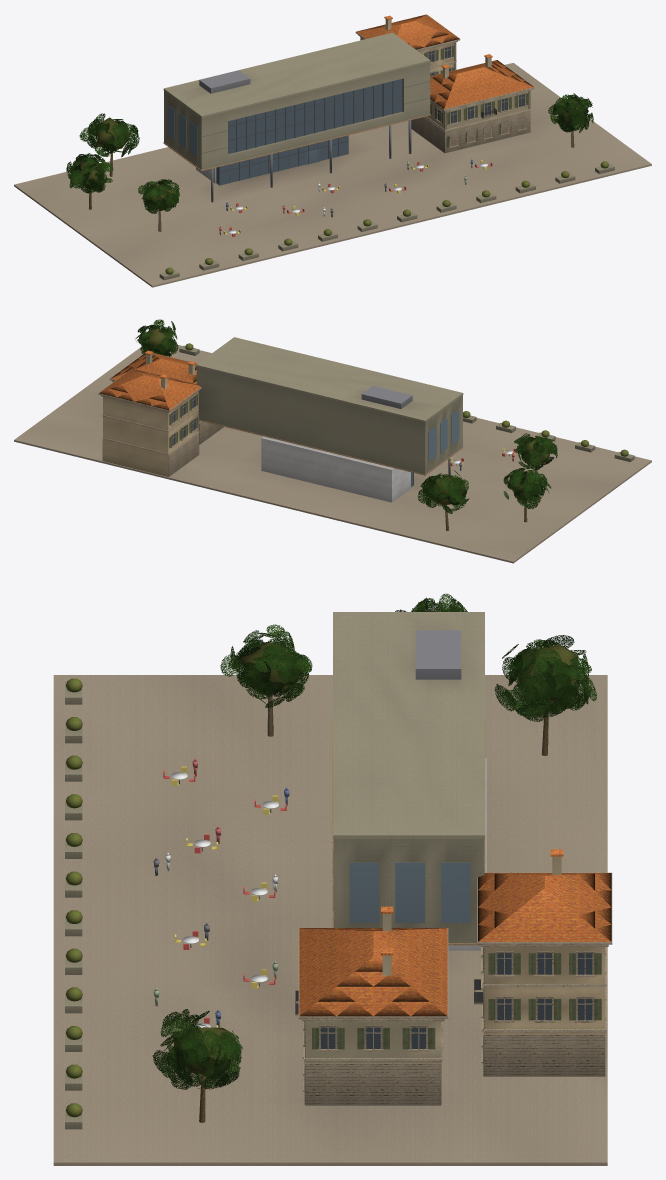
The model's file is luissGlass.gltf.
The picture shows the model from 3 angles, top to bottom: view 1: azimuth 30°, elevation 25°; view 2: azimuth 150°, elevation 25°; view 3: azimuth 270°, elevation 25°; orthographic projection. The views are drawn at different scales.
Parts seen in each view (by area): view 1: luissGlass-court-paving, luissGlass-facade-concrete, luissGlass-curtain-glass, luissGlass-tree-leaves, luissGlass-roof-tiles, luissGlass-rustication, luissGlass-mullion, luissGlass-travertine-trim, luissGlass-plaster, luissGlass-steel, luissGlass-tree-core, luissGlass-shutters (+3 smaller); view 2: luissGlass-court-paving, luissGlass-facade-concrete, luissGlass-white-render, luissGlass-plaster, luissGlass-tree-leaves, luissGlass-roof-tiles, luissGlass-travertine-trim, luissGlass-tree-core, luissGlass-rustication, luissGlass-curtain-glass, luissGlass-steel, luissGlass-soffit-wood; view 3: luissGlass-court-paving, luissGlass-facade-concrete, luissGlass-roof-tiles, luissGlass-tree-leaves, luissGlass-rustication, luissGlass-plaster, luissGlass-travertine-trim, luissGlass-curtain-glass, luissGlass-shutters, luissGlass-window-glass, luissGlass-tree-core, luissGlass-box-leaves (+1 smaller).
Part boxes in pixels (bbox=[...]): luissGlass-court-paving: bbox=[14, 63, 651, 287]; luissGlass-facade-concrete: bbox=[159, 32, 614, 280]; luissGlass-curtain-glass: bbox=[167, 79, 402, 185]; luissGlass-tree-leaves: bbox=[66, 93, 593, 213]; luissGlass-roof-tiles: bbox=[356, 14, 533, 108]; luissGlass-rustication: bbox=[411, 111, 530, 153]; luissGlass-mullion: bbox=[202, 78, 430, 185]; luissGlass-travertine-trim: bbox=[355, 14, 534, 147]; luissGlass-plaster: bbox=[360, 19, 530, 132]; luissGlass-steel: bbox=[199, 70, 483, 235]; luissGlass-tree-core: bbox=[78, 100, 585, 207]; luissGlass-shutters: bbox=[361, 40, 528, 147]; luissGlass-court-paving: bbox=[14, 344, 651, 563]; luissGlass-facade-concrete: bbox=[179, 337, 634, 474]; luissGlass-white-render: bbox=[261, 436, 410, 502]; luissGlass-plaster: bbox=[103, 354, 202, 476]; luissGlass-tree-leaves: bbox=[135, 319, 557, 513]; luissGlass-roof-tiles: bbox=[99, 350, 200, 410]; luissGlass-travertine-trim: bbox=[98, 353, 201, 454]; luissGlass-tree-core: bbox=[144, 328, 549, 504]; luissGlass-rustication: bbox=[102, 421, 223, 476]; luissGlass-curtain-glass: bbox=[411, 410, 458, 486]; luissGlass-steel: bbox=[361, 386, 509, 475]; luissGlass-soffit-wood: bbox=[198, 419, 463, 475]; luissGlass-court-paving: bbox=[53, 675, 607, 1165]; luissGlass-facade-concrete: bbox=[65, 612, 484, 1129]; luissGlass-roof-tiles: bbox=[299, 849, 611, 1016]; luissGlass-tree-leaves: bbox=[152, 593, 596, 1089]; luissGlass-rustication: bbox=[304, 1032, 605, 1105]; luissGlass-plaster: bbox=[305, 856, 605, 1104]; luissGlass-travertine-trim: bbox=[295, 872, 612, 1091]; luissGlass-curtain-glass: bbox=[349, 862, 470, 922]; luissGlass-shutters: bbox=[304, 949, 601, 1049]; luissGlass-window-glass: bbox=[321, 953, 592, 1048]; luissGlass-tree-core: bbox=[172, 610, 578, 1081]; luissGlass-box-leaves: bbox=[65, 678, 82, 1117].
Bounding box in the file's own units: 101 × 18.69 × 48.9.
26 materials, 13 textured.
